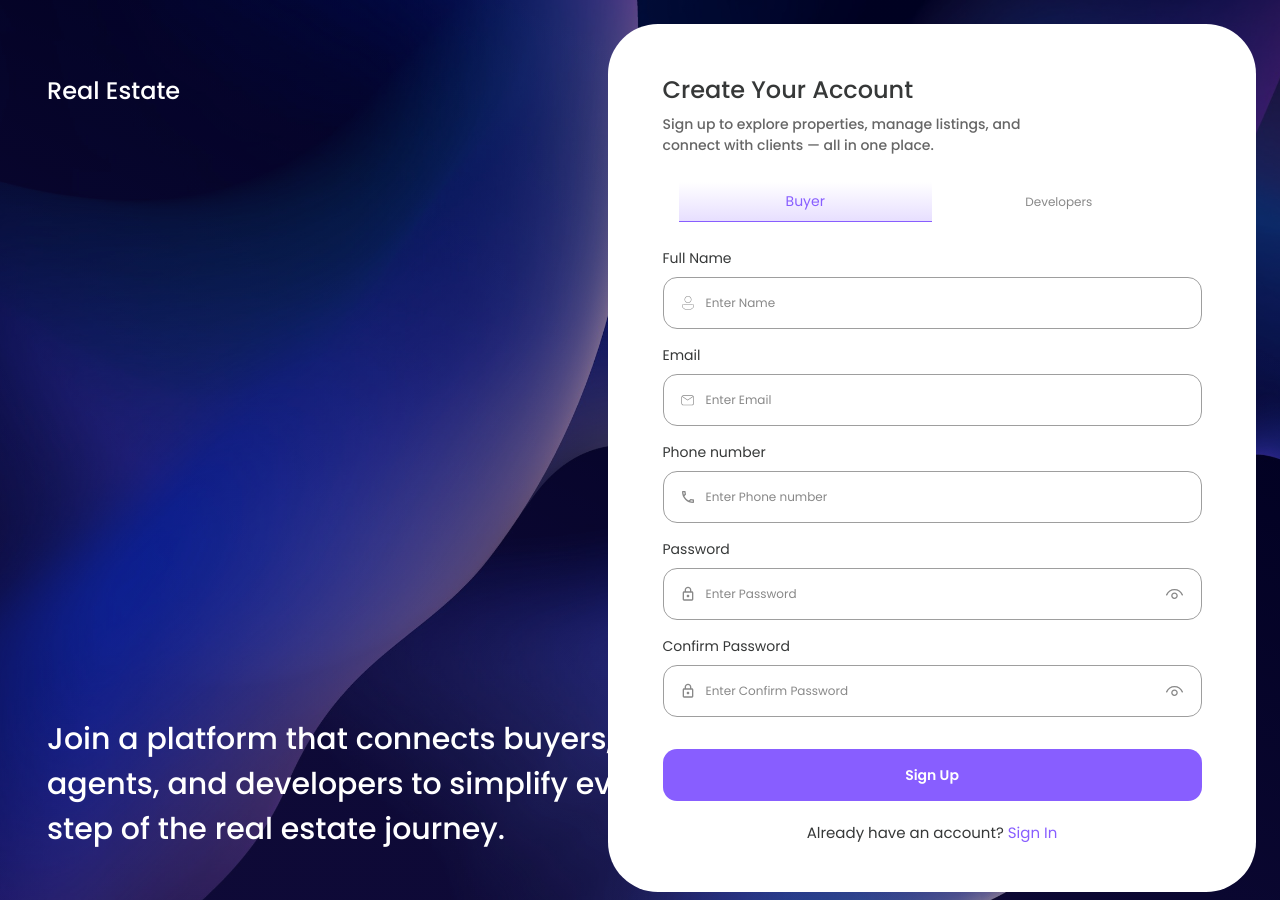
Test: SignUpPage › shows a non-field API error in the form alert
Type "Amira Khan" into the field labelled "Full Name". click: (945, 303)
box: [706,278,1184,328]
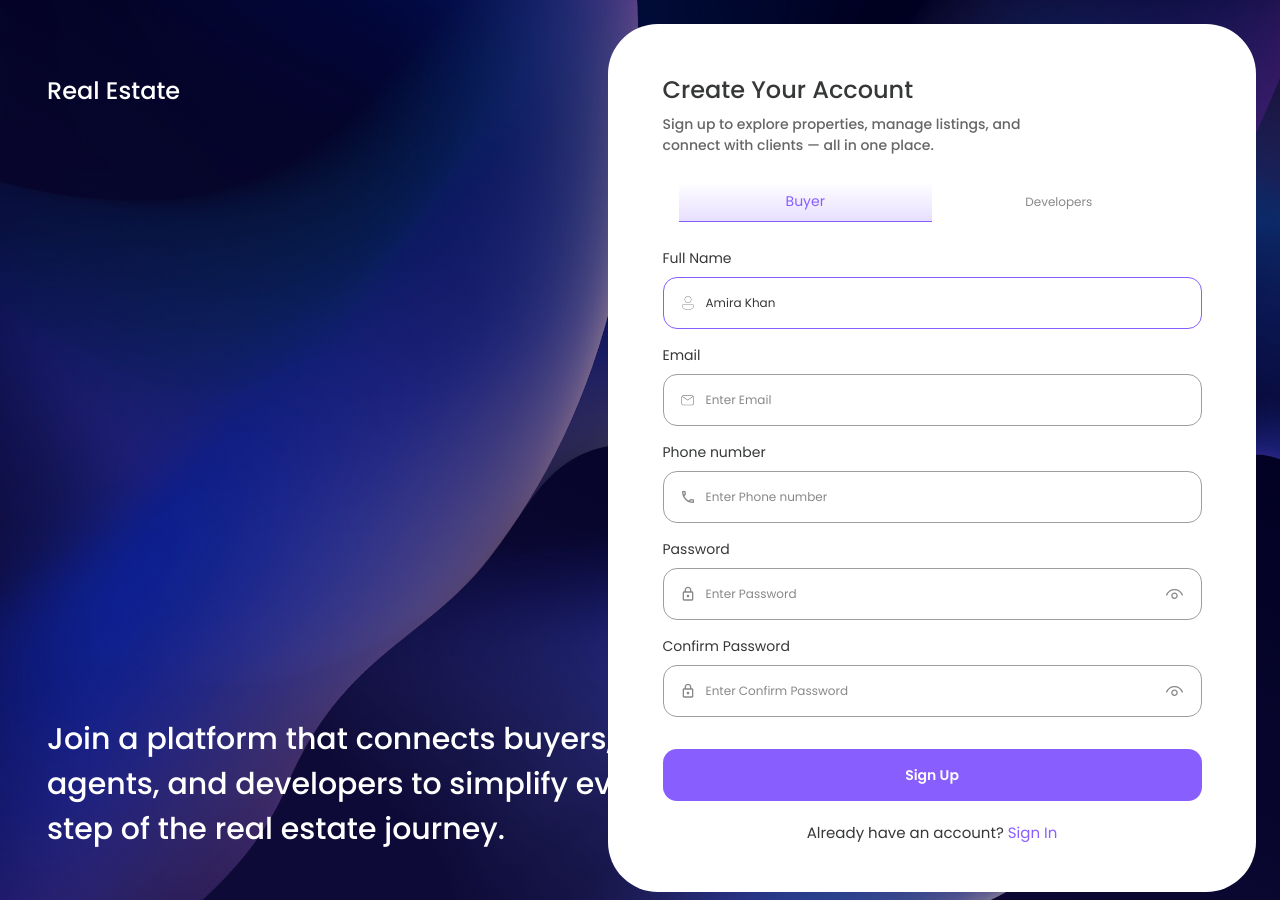
Type "  New.Buyer@Example.TEST " into the field labelled "Email". click: (945, 400)
box: [706,375,1184,425]
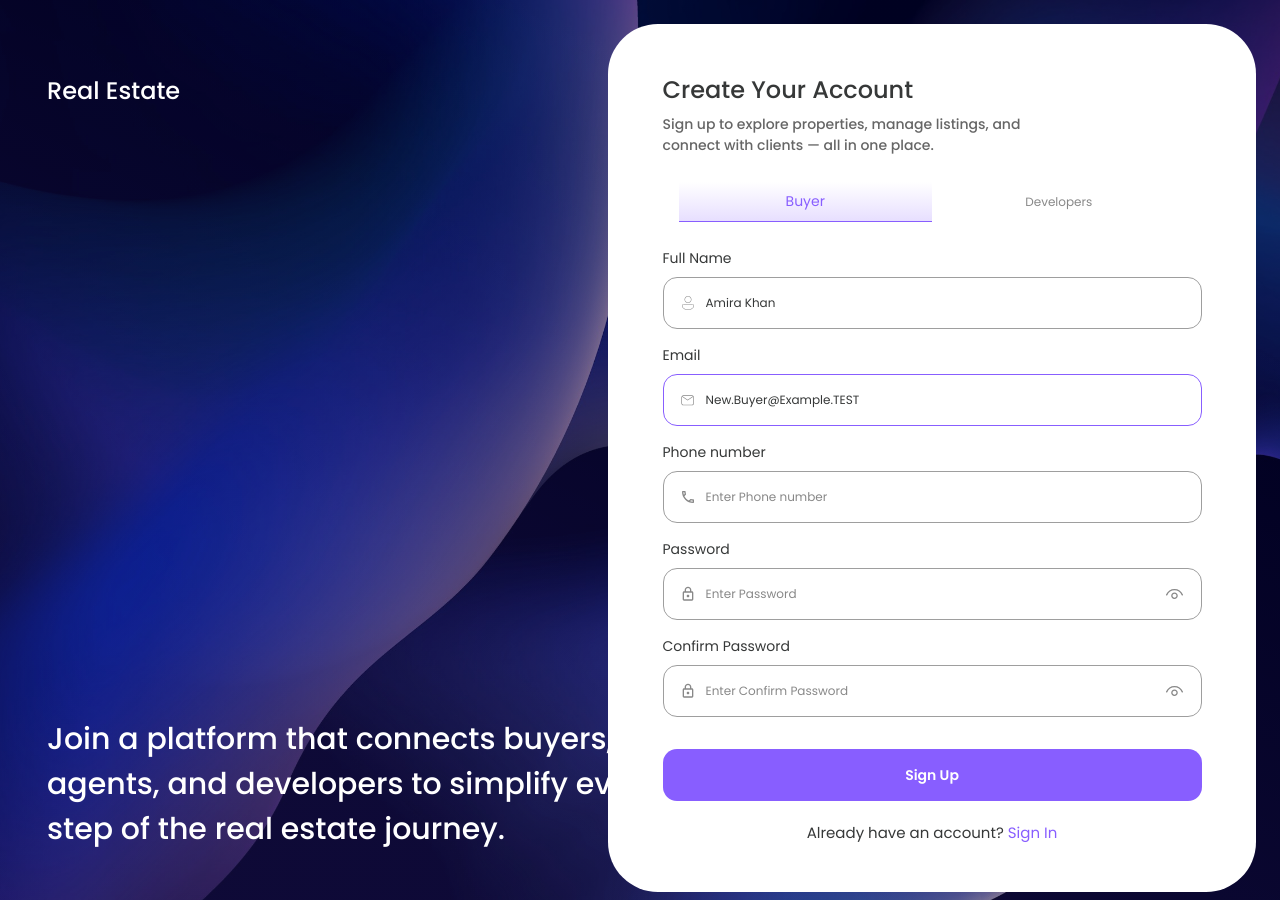
Type "+971 50-123 4567" into the field labelled "Phone number". click: (945, 497)
box: [706,472,1184,522]
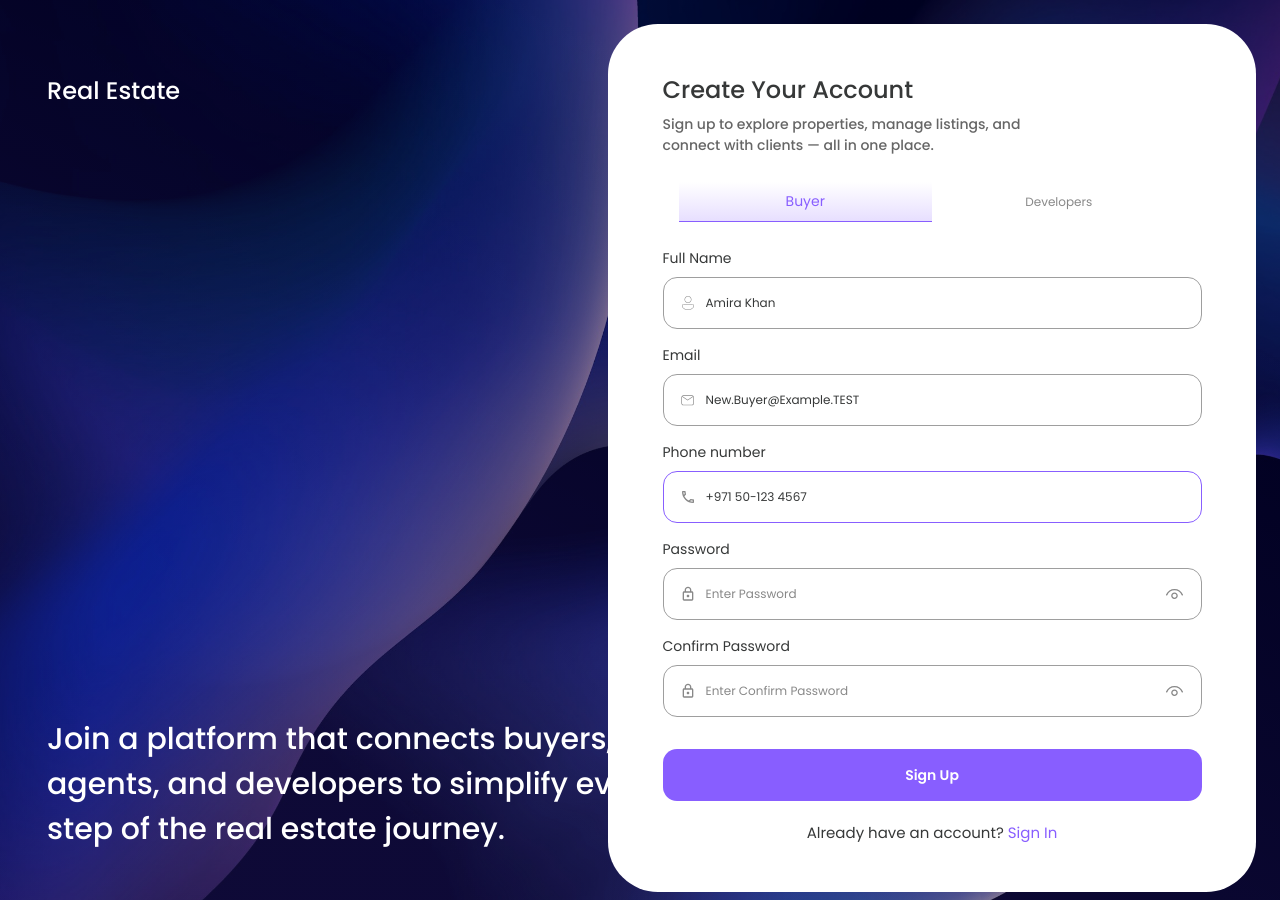
Type "secret123" into the password field labelled "Password". click: (930, 594)
box: [706,569,1154,619]
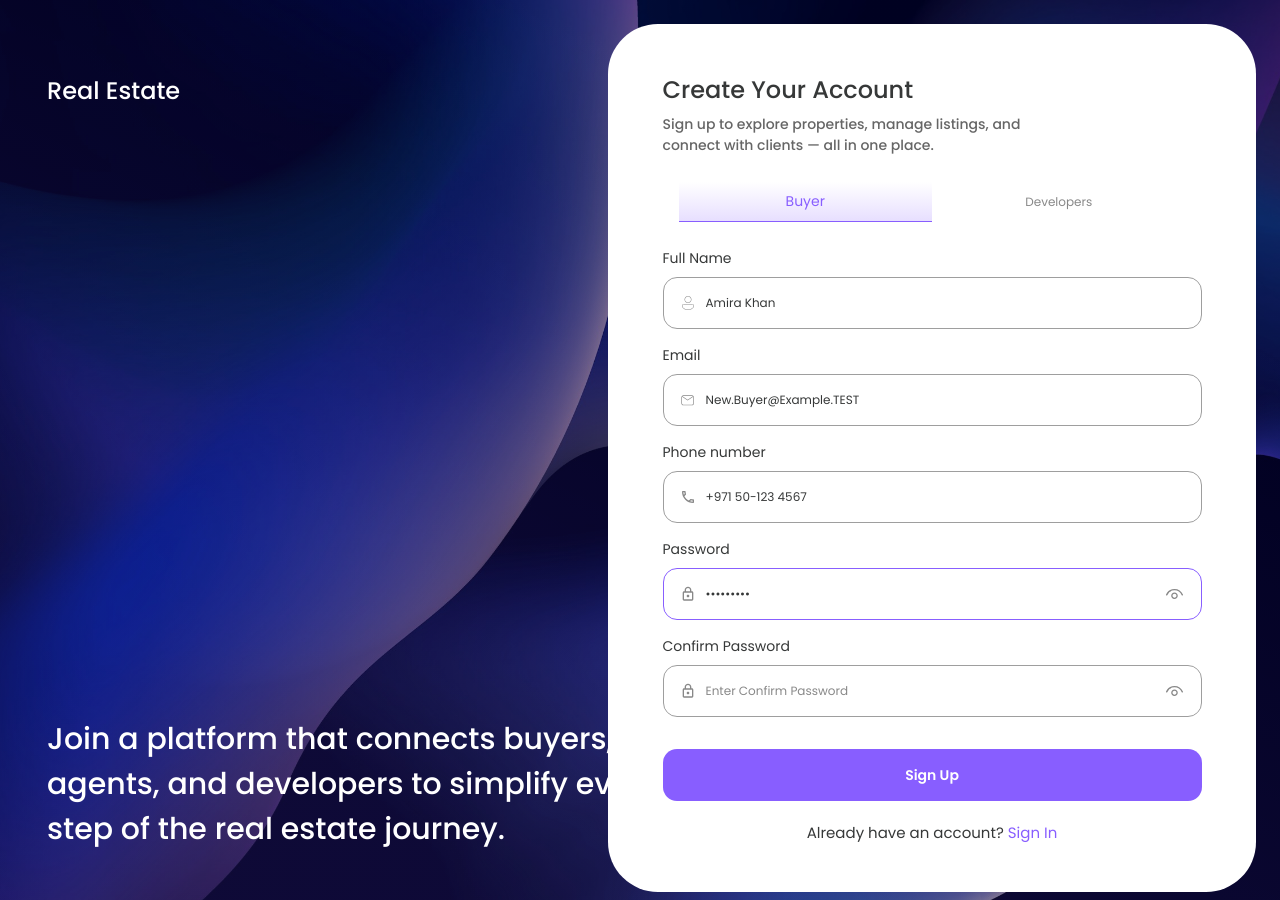
Type "secret123" into the password field labelled "Confirm Password". click: (930, 691)
box: [706,666,1154,716]
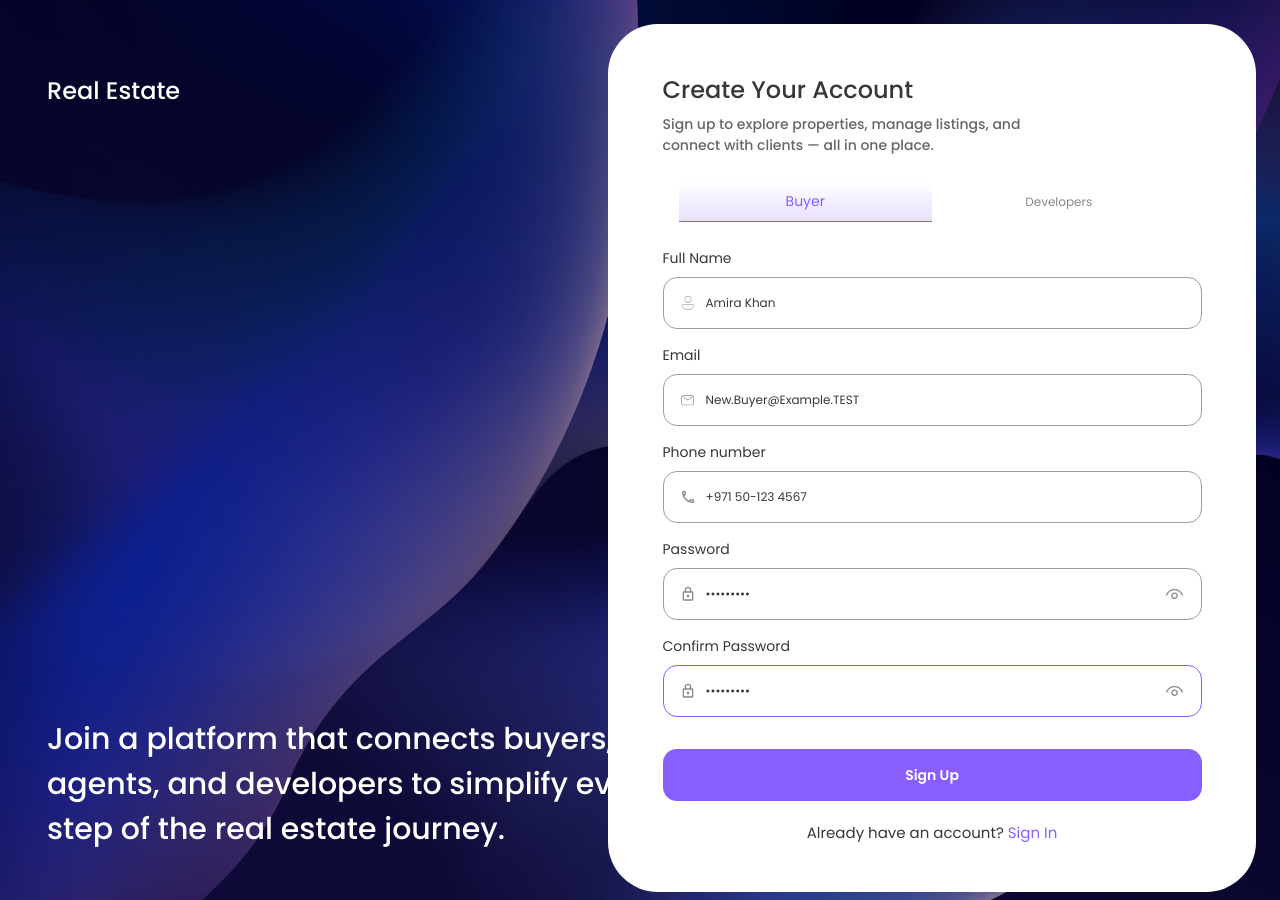
Click the button "Sign Up". click: (932, 775)
box: [662,749,1202,801]
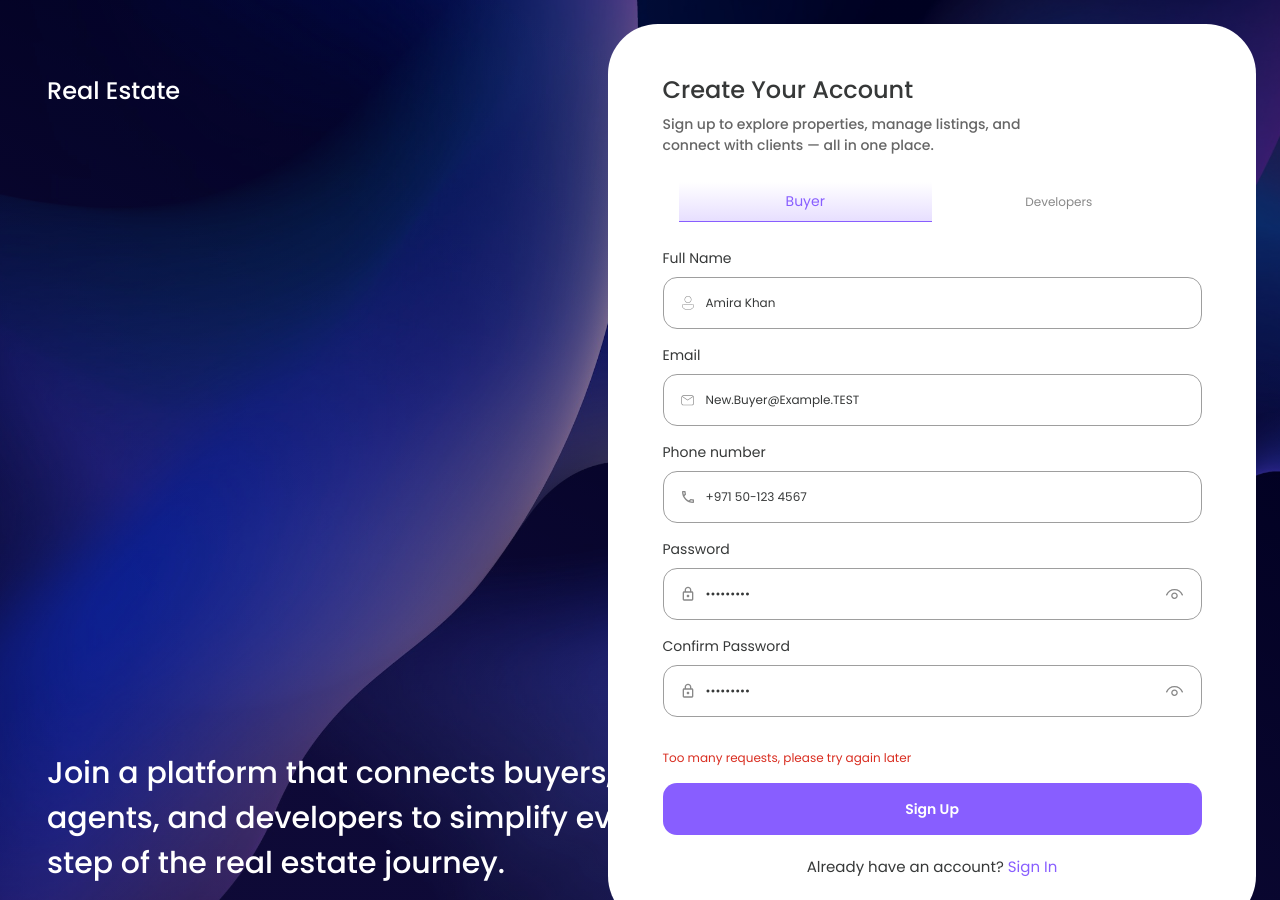
Check: the message reads "Too many requests, please try again later", box [662,749,911,766]
